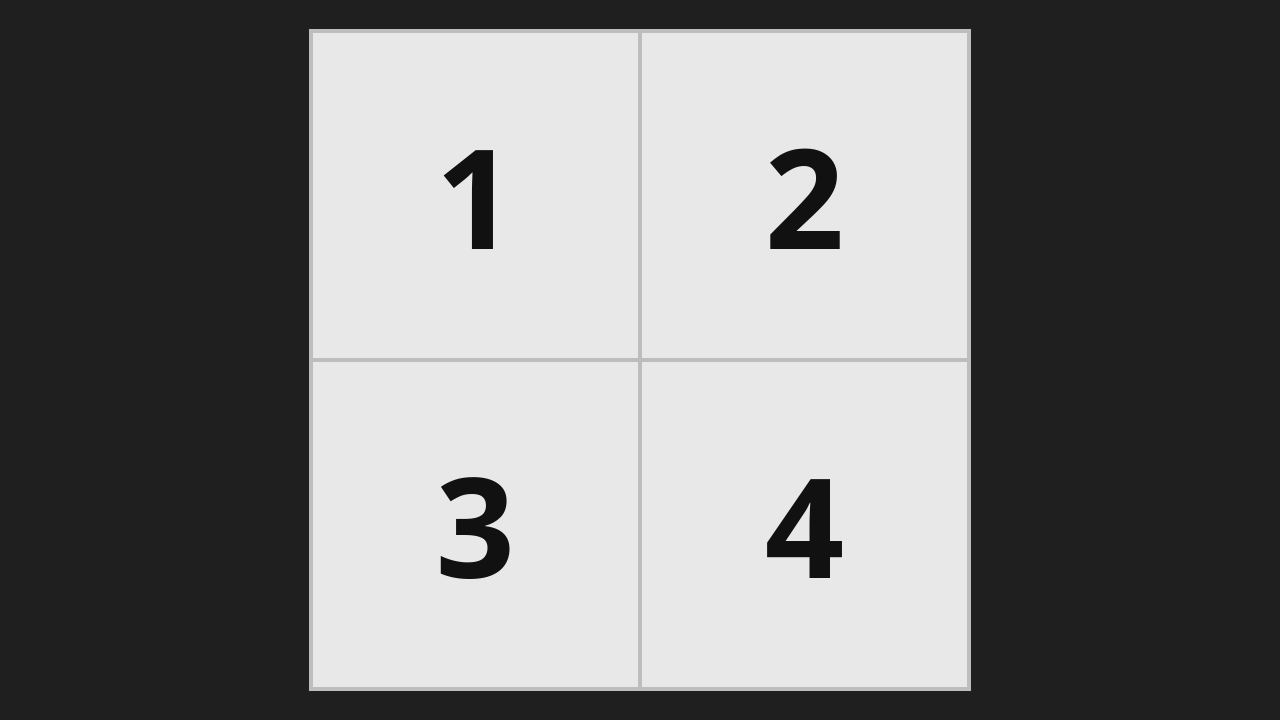
Test: Session: Esc after 30 % and the diagnostic restart (F11) › a counted Esc whose save fails shows the save error, not the level change that may never happen (T-R57)
Press the mouse on the button "1" at (475, 195), box [313,33,638,358]
Press the mouse on the button "2" at (805, 195), box [642,33,967,358]
Press Escape
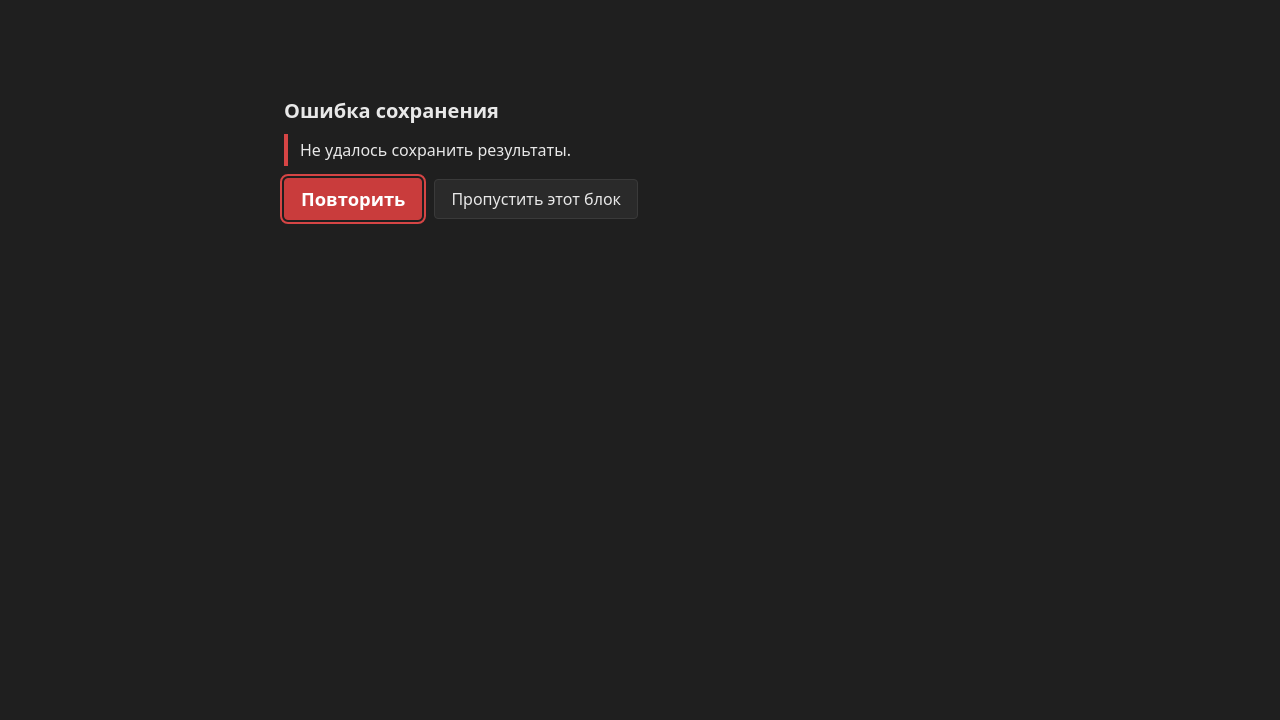
Result: the text "Не удалось сохранить результаты." is shown at [284,134,996,166]
